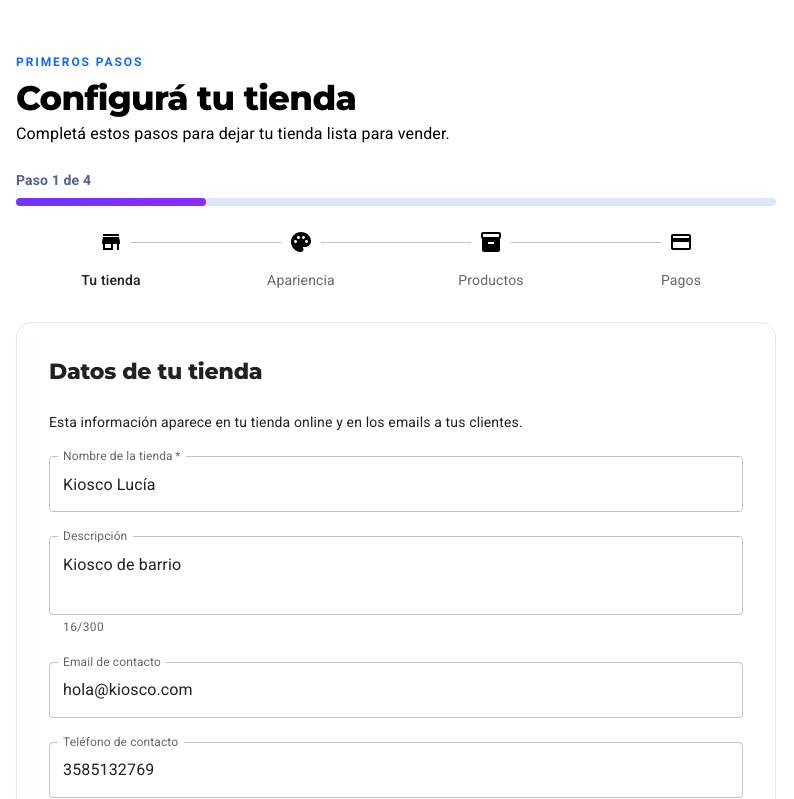
Test: Onboarding · paso «Tu tienda» › guarda los datos de la tienda, avanza al paso siguiente y se lo avisa al servidor
Replace the text in the field labelled "Nombre de la tienda" with "  Kiosco Nuevo  " at (396, 484), box [49, 456, 743, 512]
(page scrolled)
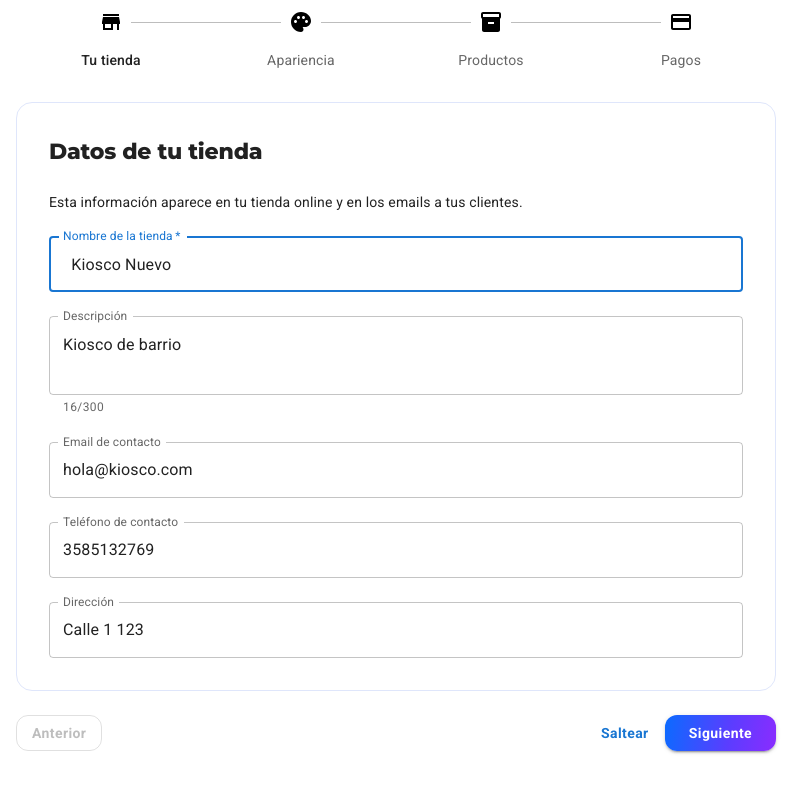
Click the button "Siguiente" at (720, 733), box [665, 715, 776, 752]
(page scrolled)
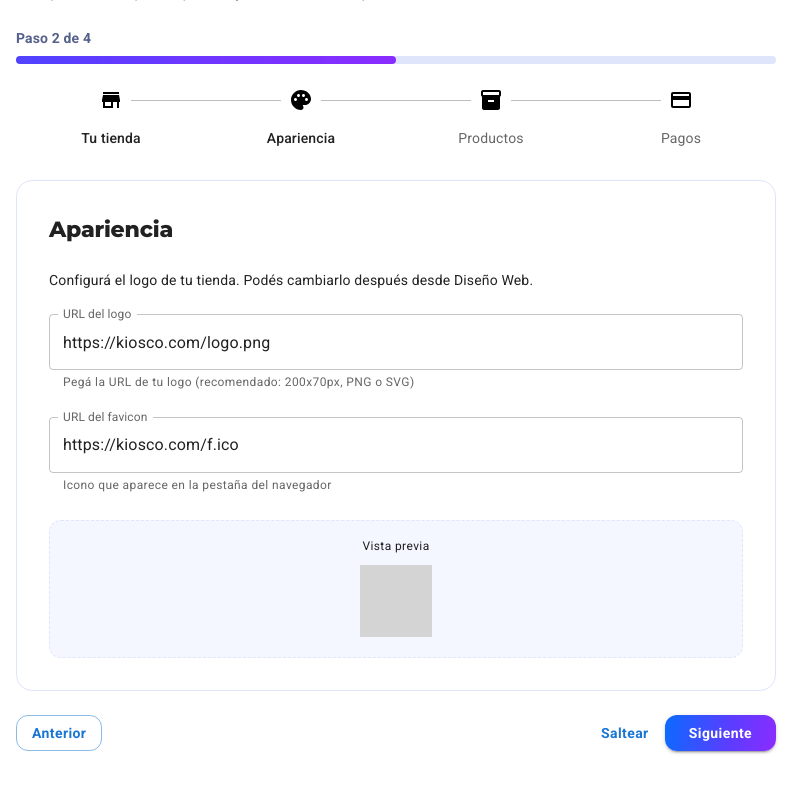
Check: the text "Configurá el logo de tu tienda. Podés cambiarlo después desde Diseño Web." is shown, box [49, 272, 533, 288]
